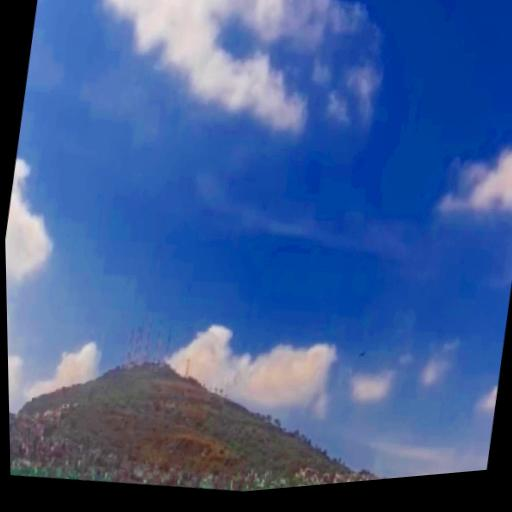drones: (355, 347, 368, 361)
